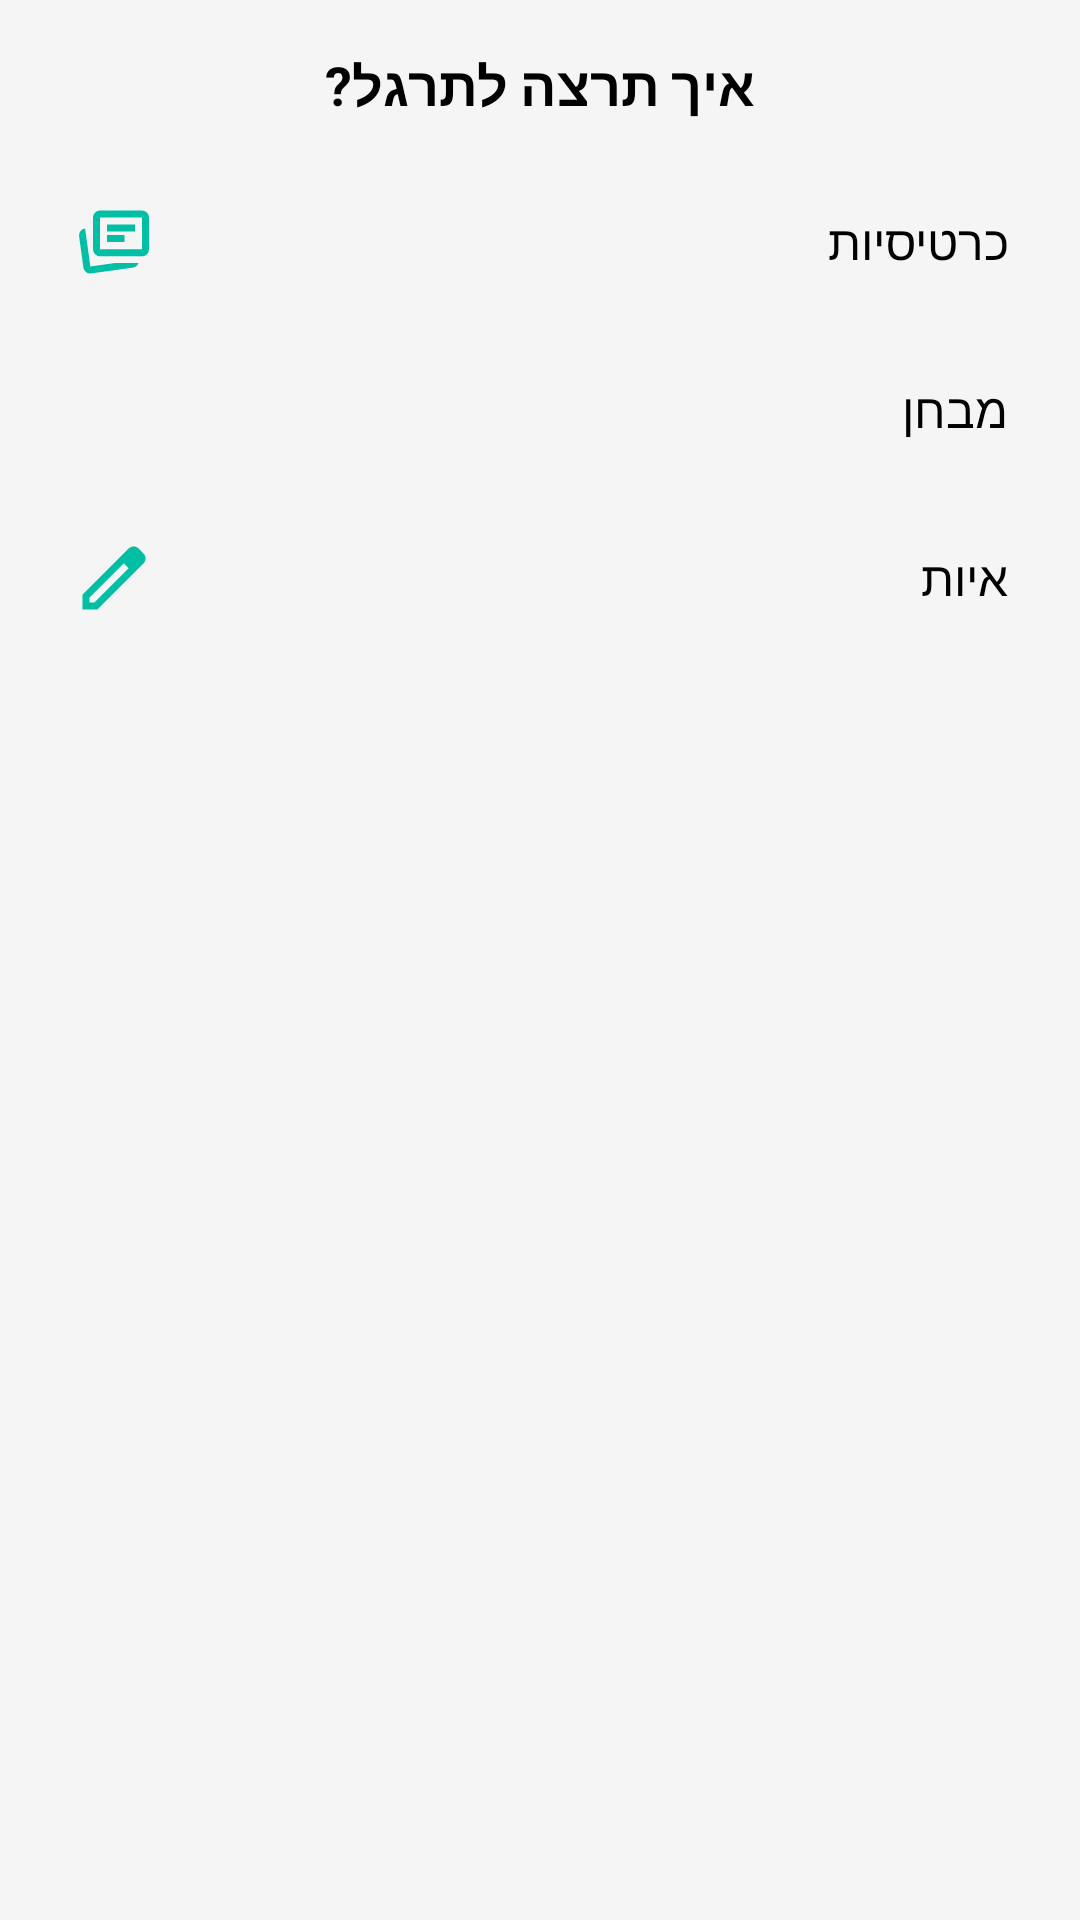

Where to tap for icons on this 1080 x 1920 app screen, as (x,y):
flashcards: (114,242)
spelling: (114,578)
